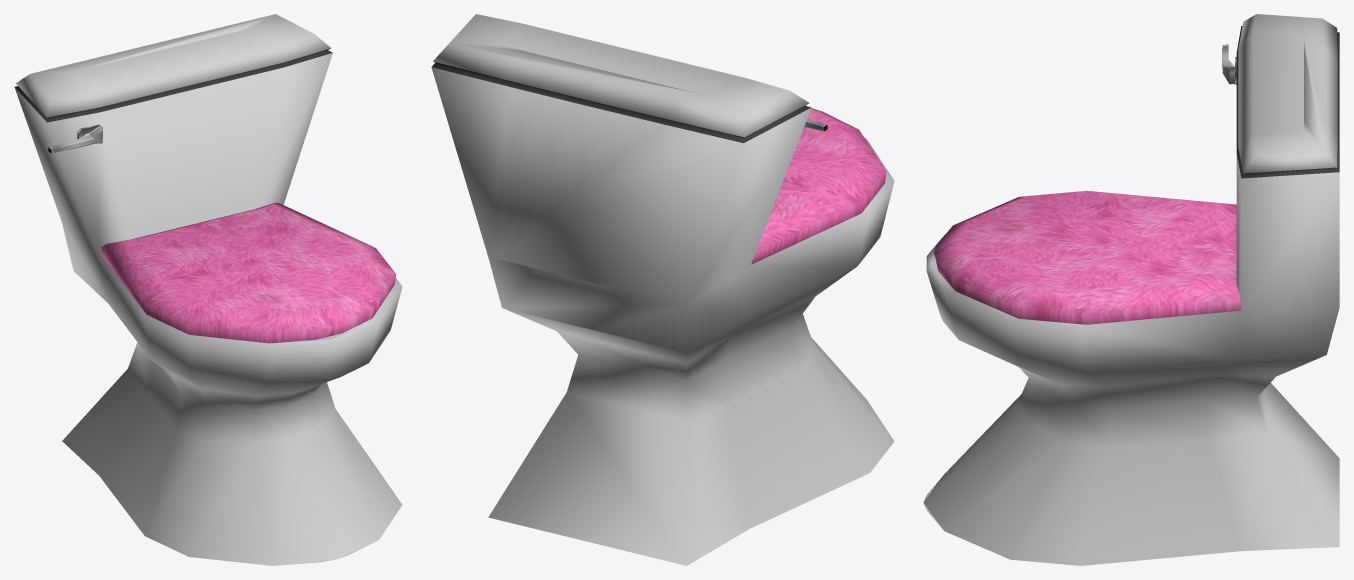
The model's file is Potty_E.FBX.
The picture shows the model from 3 angles, left to right: view 1: azimuth 30°, elevation 25°; view 2: azimuth 150°, elevation 25°; view 3: azimuth 270°, elevation 25°; orthographic projection. The views are drawn at different scales.
Parts seen in each view (by area): view 1: Potty; view 2: Potty; view 3: Potty.
Boxes of the visible parts, box(x1,y1,x2,y2) form: Potty: box(14, 14, 402, 565); Potty: box(431, 14, 894, 565); Potty: box(923, 14, 1339, 565).
Bounding box in the file's own units: 140 × 176 × 159.
